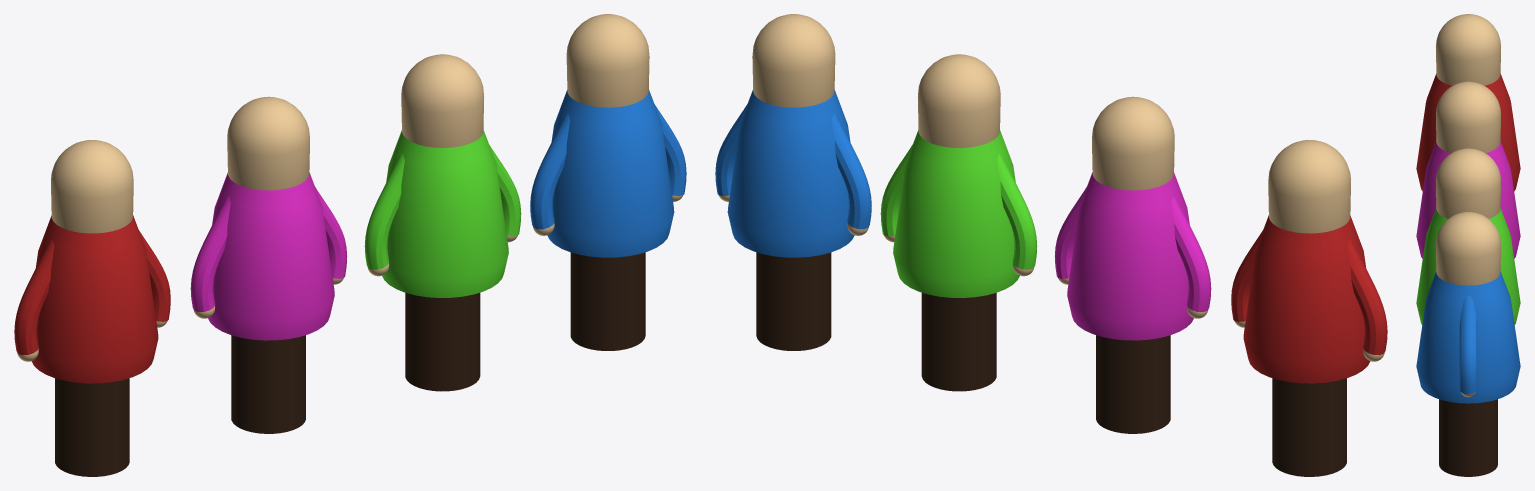
Rendered from Characters.fbx.
3 views of the same model, side by side, from view 1: azimuth 30°, elevation 25°; view 2: azimuth 150°, elevation 25°; view 3: azimuth 270°, elevation 25° (orthographic). The views are drawn at different scales.
Parts seen in each view (by area): view 1: C4-Blue, C3-Green, C1-Red, C2-Pink; view 2: C4-Blue, C3-Green, C1-Red, C2-Pink; view 3: C4-Blue, C1-Red, C2-Pink, C3-Green.
Part boxes in pixels (x1,y1,x2,y2): C4-Blue: [530, 14, 686, 350]; C3-Green: [364, 54, 521, 391]; C1-Red: [14, 140, 170, 476]; C2-Pink: [190, 96, 347, 433]; C4-Blue: [715, 14, 871, 350]; C3-Green: [880, 54, 1037, 391]; C1-Red: [1231, 140, 1387, 476]; C2-Pink: [1054, 96, 1211, 433]; C4-Blue: [1416, 212, 1520, 476]; C1-Red: [1416, 14, 1520, 191]; C2-Pink: [1416, 81, 1520, 258]; C3-Green: [1416, 148, 1520, 324].
Size of the model in its own units: 206 by 93.36 by 35.36.
